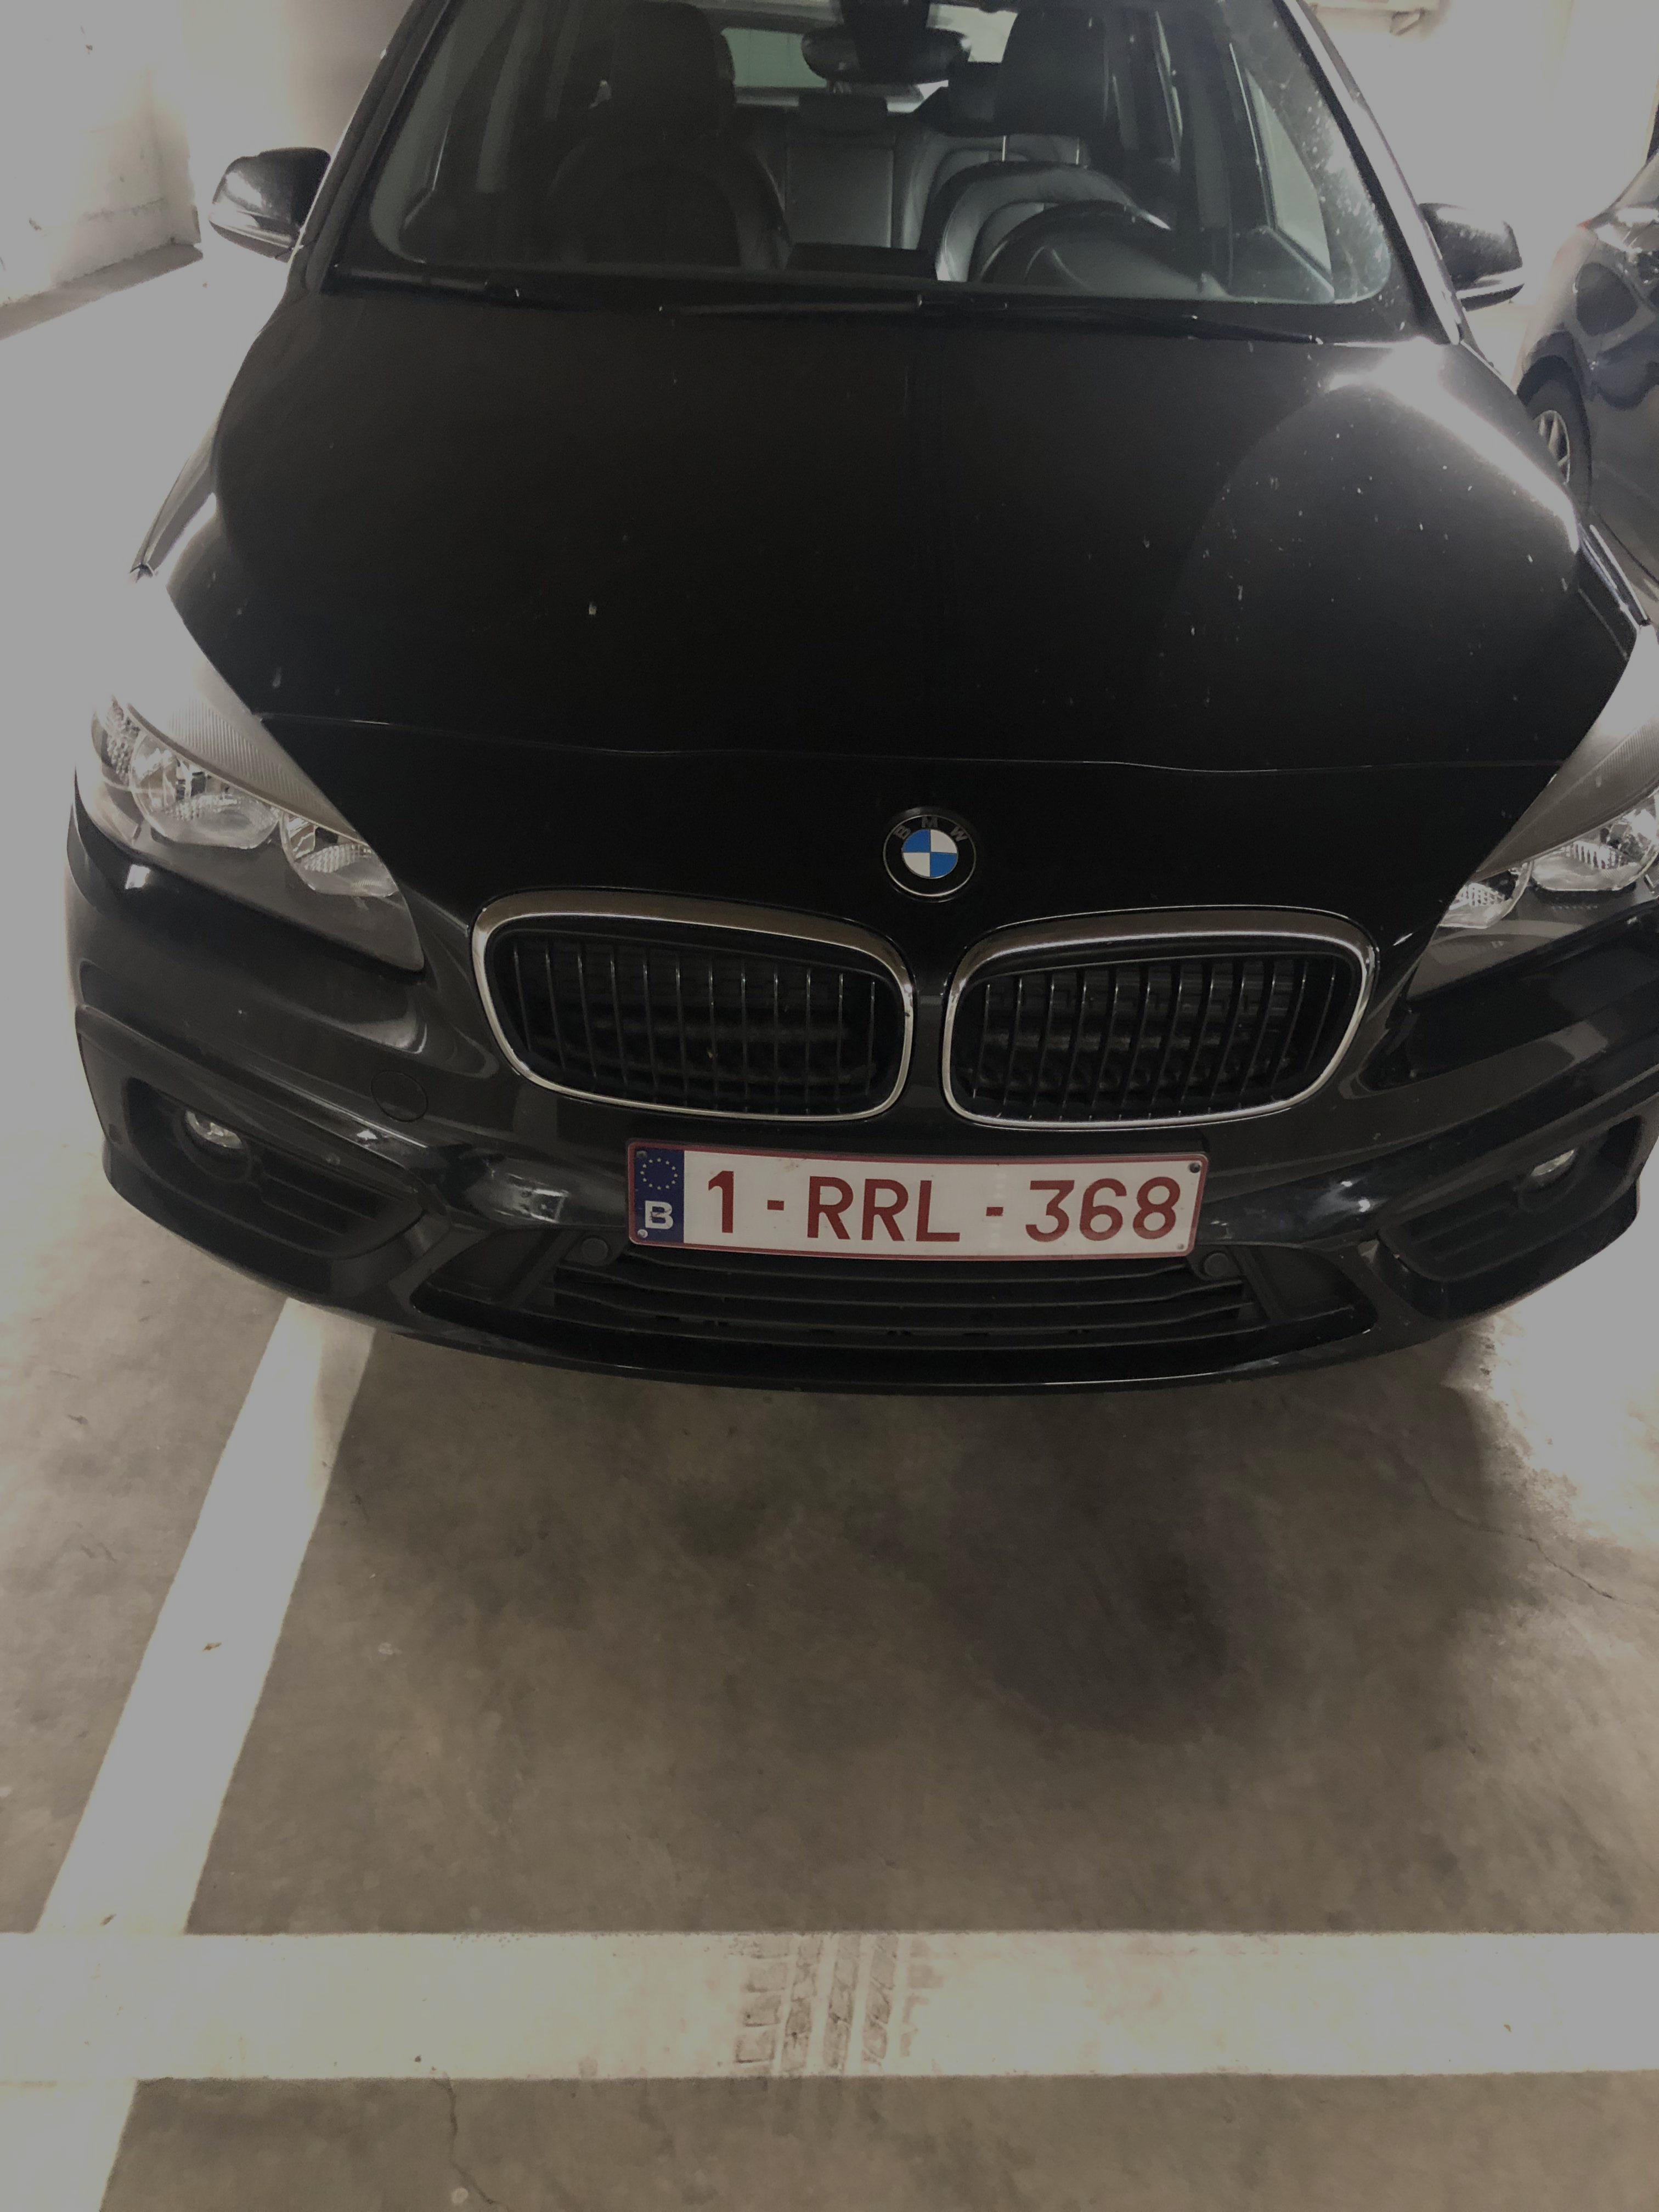plate: (597, 1119, 1237, 1278)
